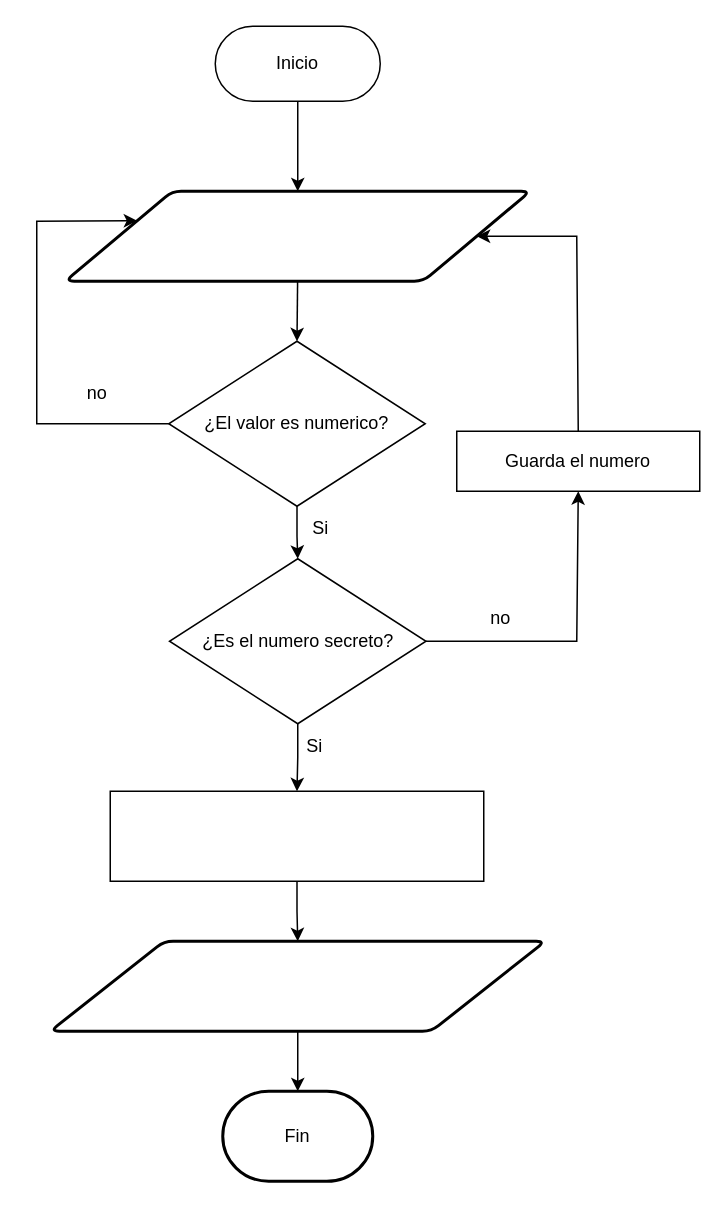
The diagram is 726 pixels wide and 1209 high, and some of its shapes have lost their labels. The shapes that lost their labels are listed below. From the top down, each one's centre as x and y in pixels, then its label:
At (x=297, y=235): "Solicita al usuario un numero 'n' del 1 al 100 para adivinar el numero correcto".
At (x=296, y=835): "n = Numero secreto".
At (x=297, y=985): "Se muestra los números previos antes de encontrar el correcto".
